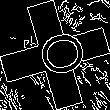O_W: (25, 27, 85, 83)
